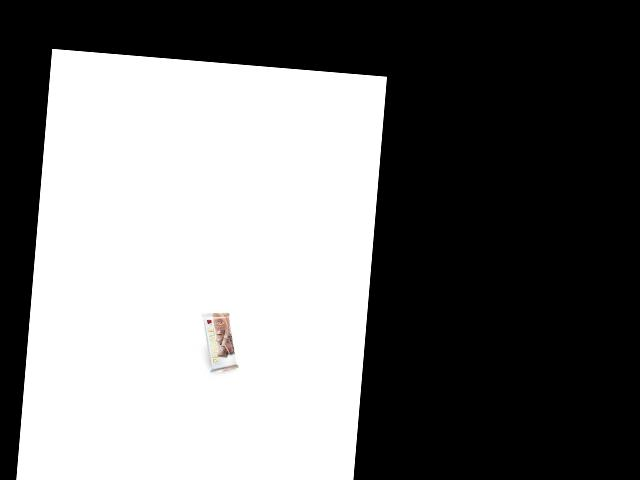chocolate: (195, 310, 247, 371)
